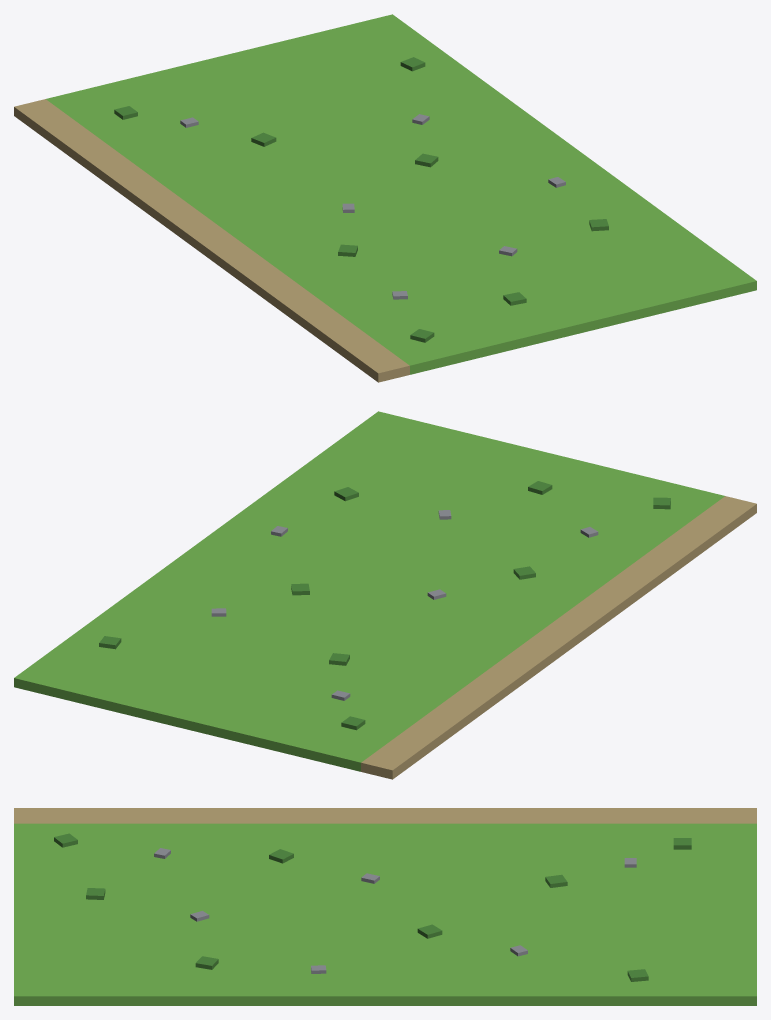
File: env_r1_verge.glb
3 views of the same model, one above another, from view 1: azimuth 30°, elevation 25°; view 2: azimuth 150°, elevation 25°; view 3: azimuth 270°, elevation 25° (orthographic).
Parts seen in each view (by area): view 1: env_r1_verge; view 2: env_r1_verge; view 3: env_r1_verge.
Part boxes in pixels (left/top/right/bottom): env_r1_verge: left=14, top=14, right=756, bottom=382; env_r1_verge: left=14, top=411, right=756, bottom=779; env_r1_verge: left=14, top=808, right=756, bottom=1005.
Size of the model in its own units: 6 by 0.2 by 10.
Materials: 1 (1 with a texture image).
